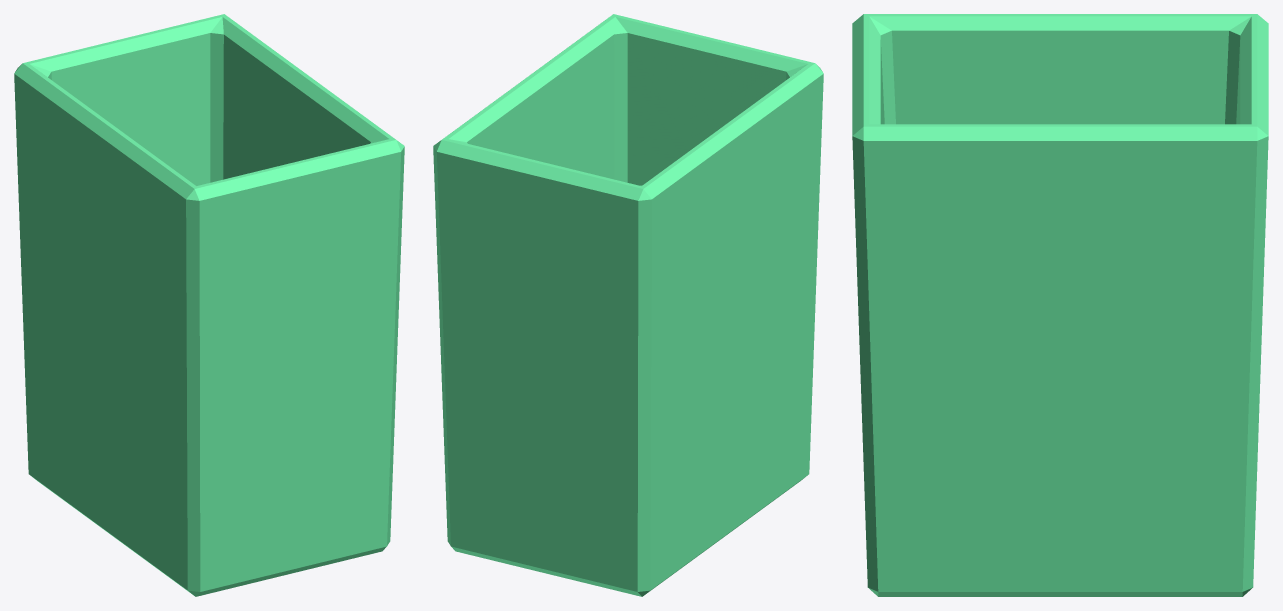
Rendered from gomibakoi_B.fbx.
3 views of the same model, side by side, from view 1: azimuth 30°, elevation 25°; view 2: azimuth 150°, elevation 25°; view 3: azimuth 270°, elevation 25° (orthographic). The views are drawn at different scales.
Parts seen in each view (by area): view 1: pCube87; view 2: pCube87; view 3: pCube87.
Boxes of the visible parts, x1,y1,x2,y2 form: pCube87: [14, 14, 404, 596]; pCube87: [433, 14, 823, 596]; pCube87: [852, 14, 1268, 596].
Bounding box in the file's own units: 1.1 × 2 × 1.59.
1 material, 1 textured.
